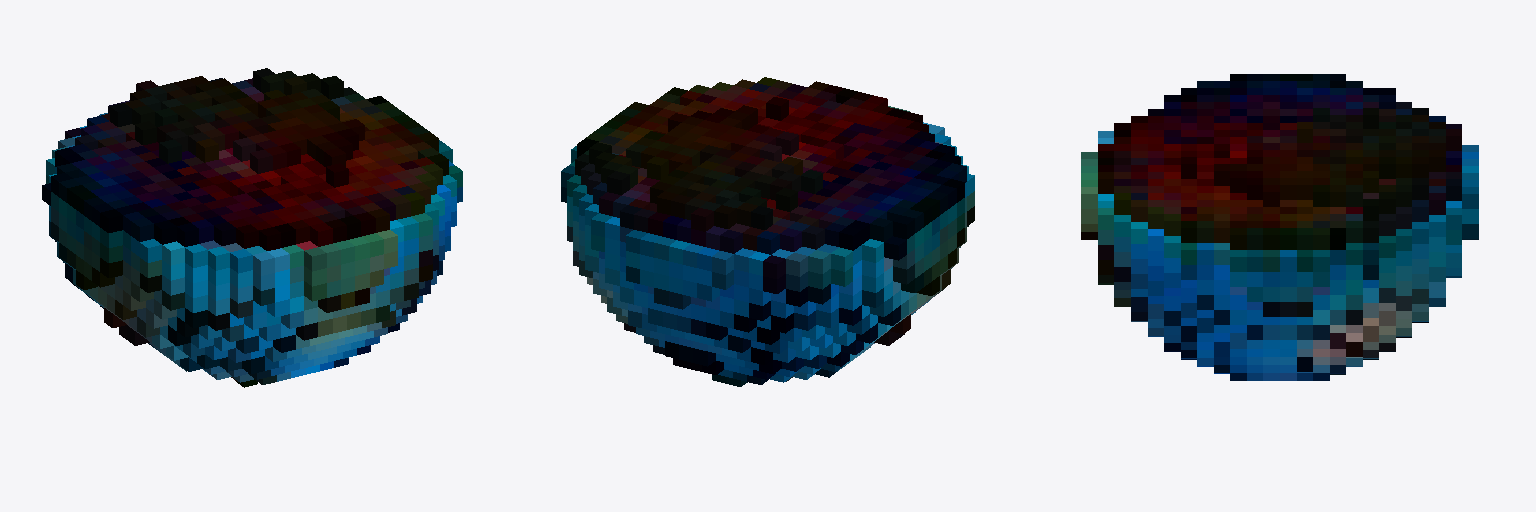
File: regen_iter_5.obj
3 renders of one model, left to right at view 1: azimuth 30°, elevation 25°; view 2: azimuth 150°, elevation 25°; view 3: azimuth 270°, elevation 25°, orthographic.
Visible parts, largest first — view 1: regen_iter_5; view 2: regen_iter_5; view 3: regen_iter_5.
Boxes of the visible parts, x1=… form: regen_iter_5: x1=42, y1=68, x2=462, y2=387; regen_iter_5: x1=561, y1=77, x2=974, y2=386; regen_iter_5: x1=1081, y1=74, x2=1478, y2=380.
Bounding box in the file's own units: 2.4 × 1.5 × 2.4.